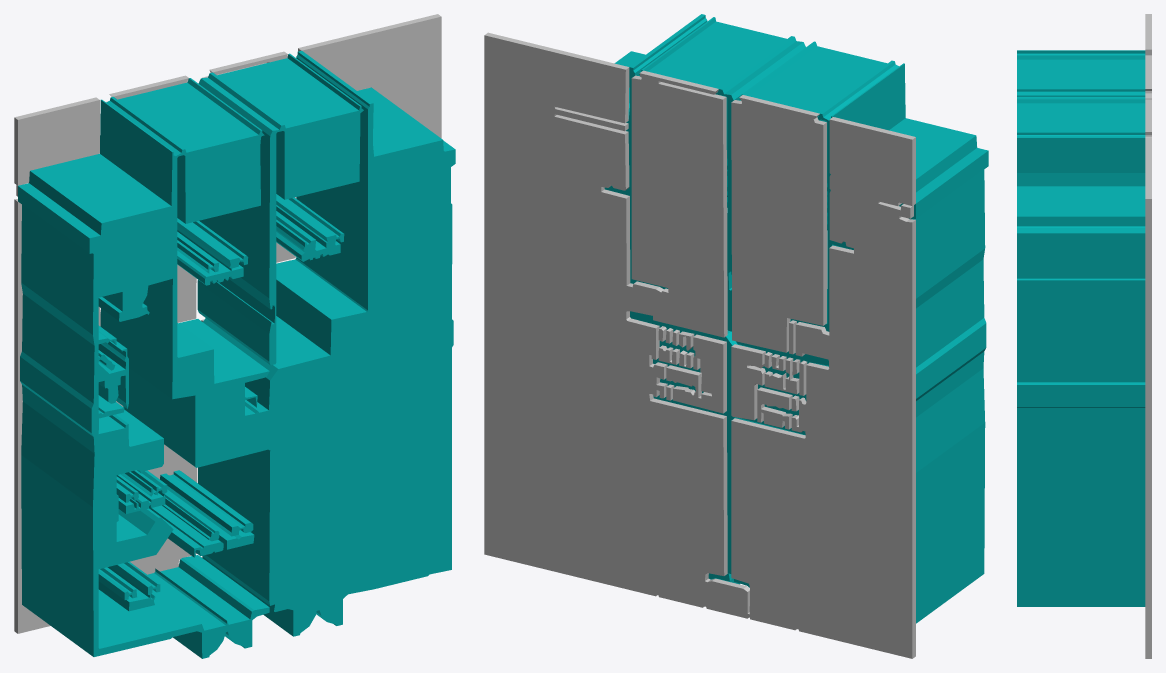
The picture shows the model from 3 angles, left to right: view 1: azimuth 30°, elevation 25°; view 2: azimuth 150°, elevation 25°; view 3: azimuth 270°, elevation 25°; orthographic projection. The views are drawn at different scales.
Parts seen in each view (by area): view 1: world; view 2: world; view 3: world.
Part boxes in pixels (left/top/right/bottom): world: left=14, top=14, right=455, bottom=658; world: left=484, top=14, right=988, bottom=658; world: left=1017, top=14, right=1151, bottom=658.
Bounding box in the file's own units: 10.23 × 11.86 × 3.15.
